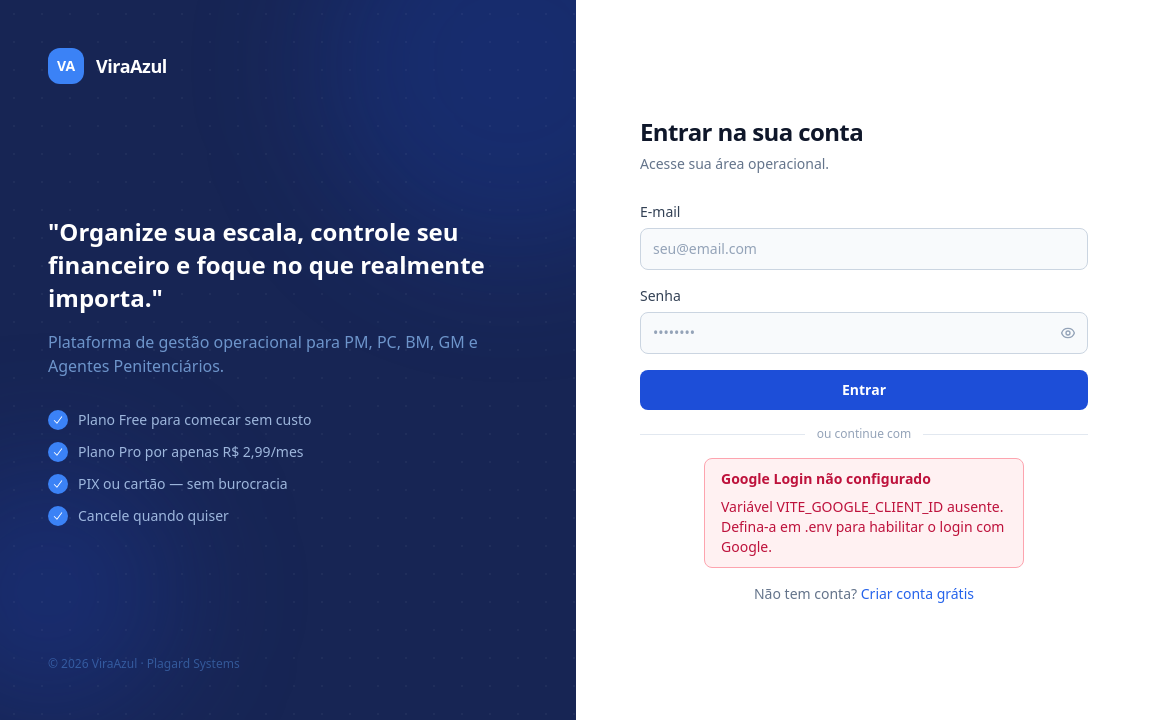
it: Login flow with auth API › logs in successfully and redirects to dashboard
Type "admin.master@viraazul.local" into the field labelled "E-mail".
click(864, 249); type("admin.master@viraazul.local")  # box [640,228,1088,270]
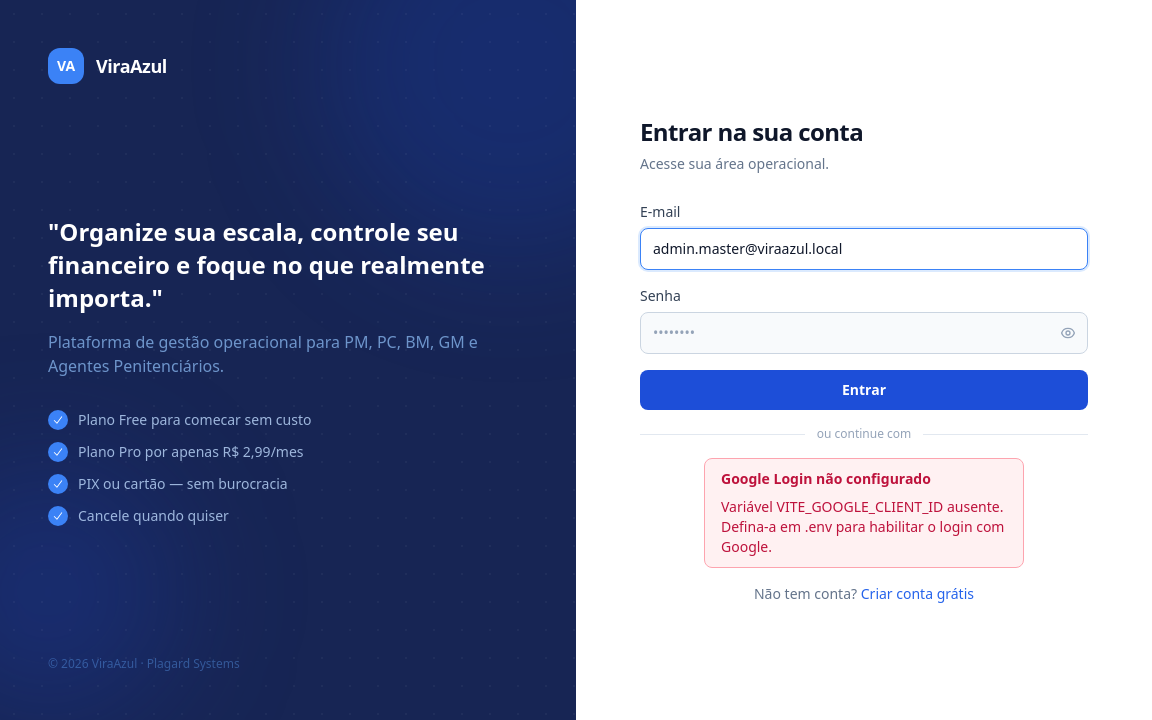
Type "Admin@123456" into the password field labelled "Senha".
click(864, 333); type("Admin@123456")  # box [640,312,1088,354]
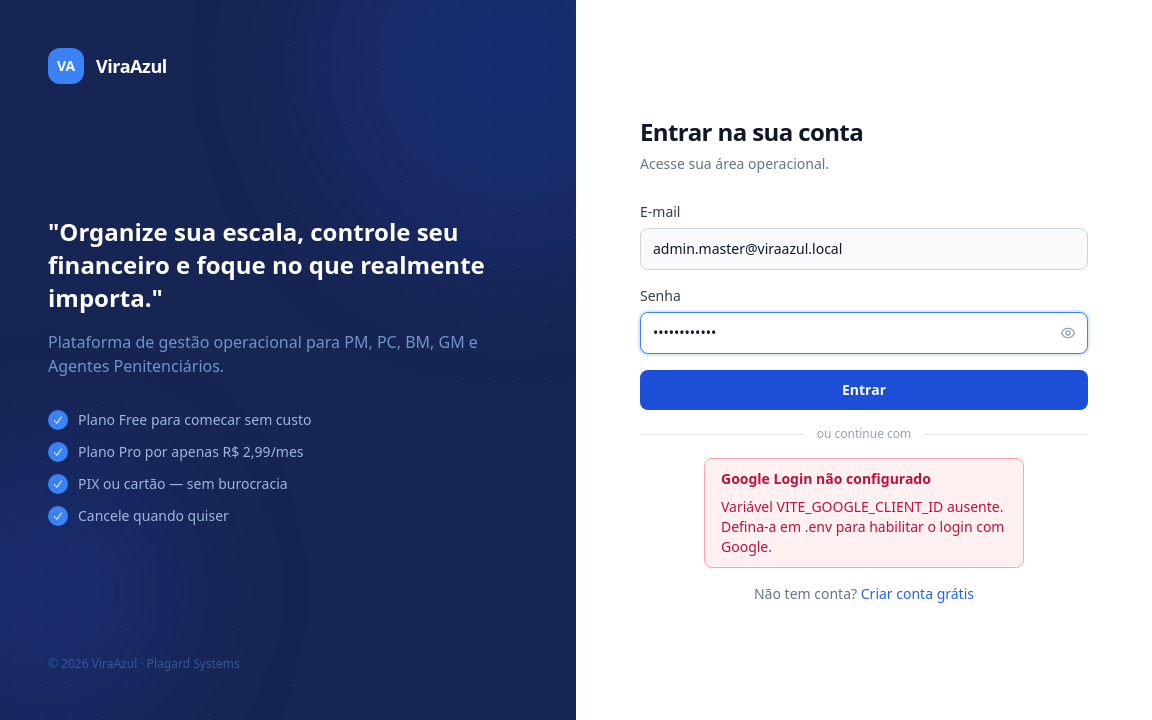
Click the button "Entrar".
click(864, 390)  # box [640,370,1088,410]
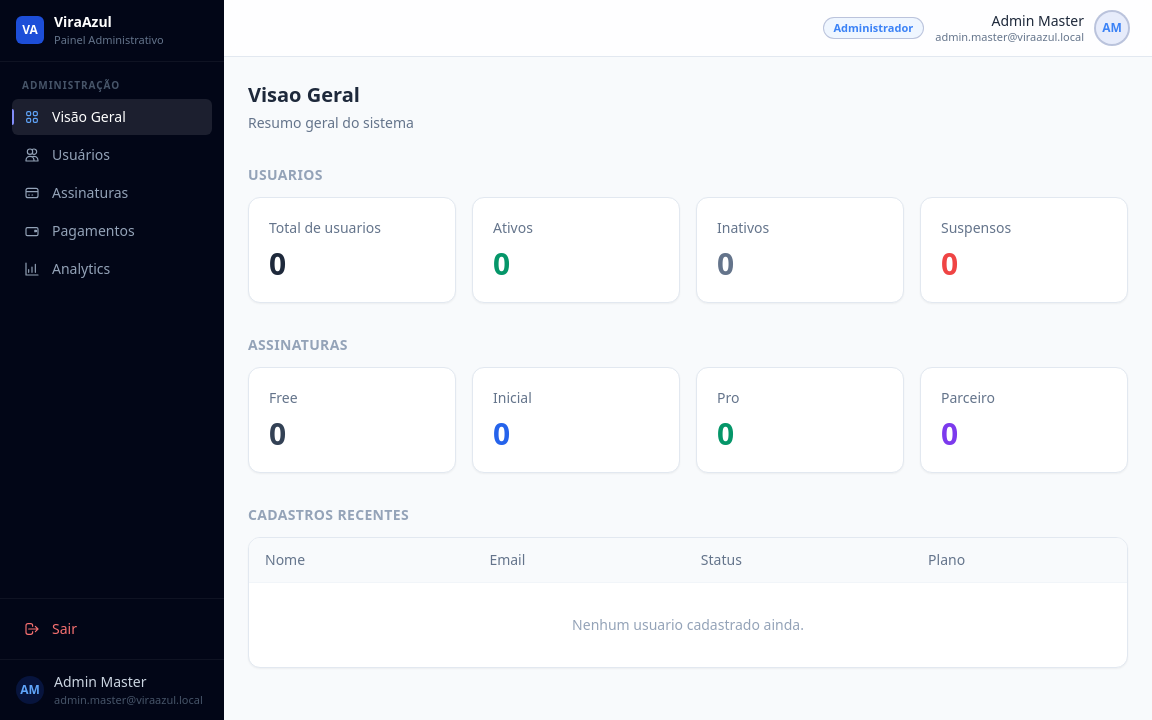
Now the text "Painel Administrativo" is shown, box [54,32,164,48]
